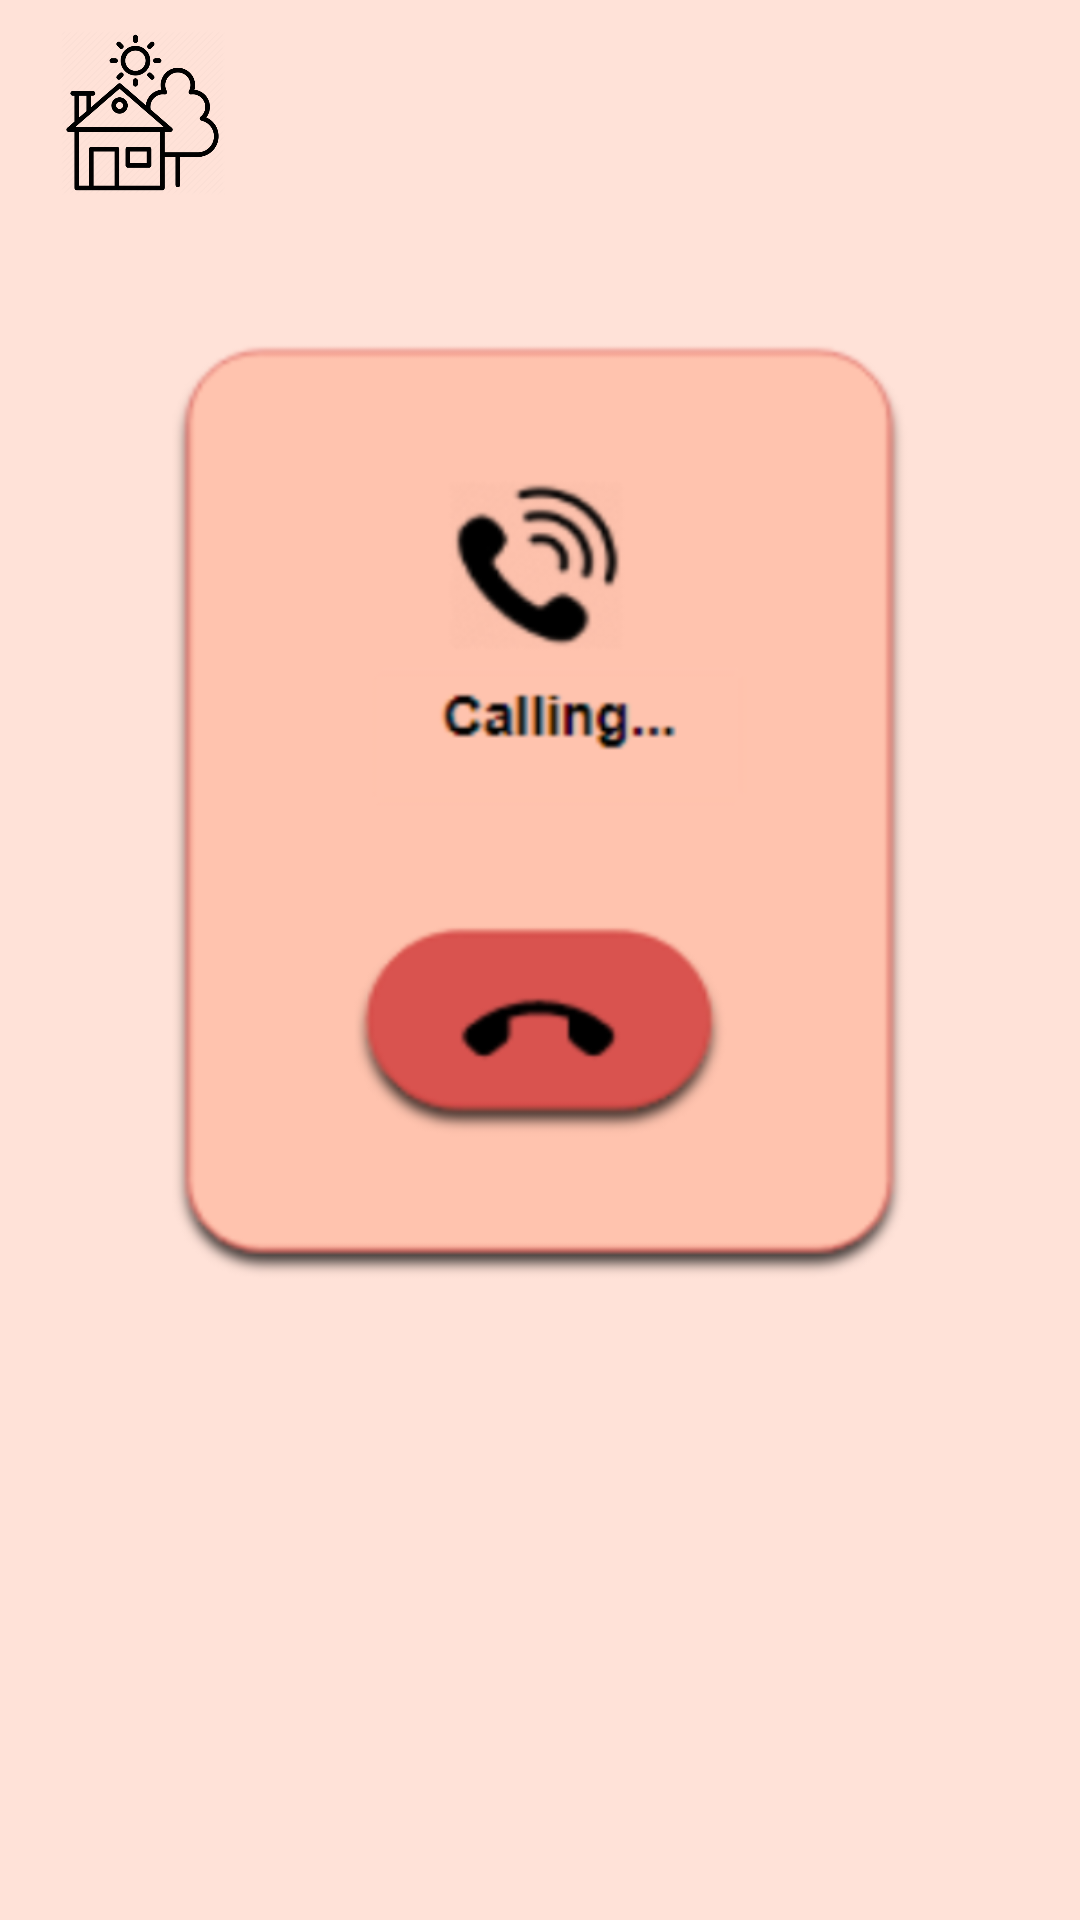

Named icons in this screenshot (1080 x 1920) and their bounding boxes, (x1, y1, x2, y2):
house: (66, 34, 219, 191)
